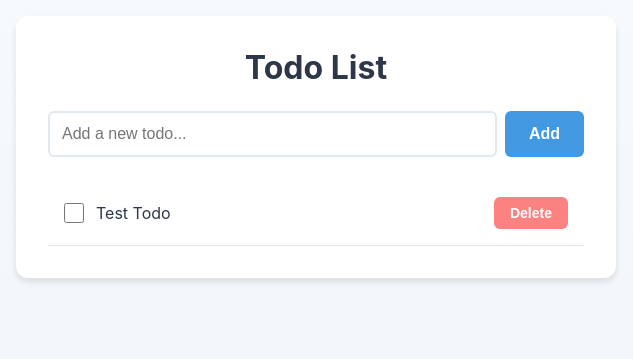
it: Home Component › should display error when deleting todo fails
Check: the text "Test Todo" is shown, box [96,203,171,223]
Step 1. Click the button "Delete" → (531, 213), box [494,197,568,229]
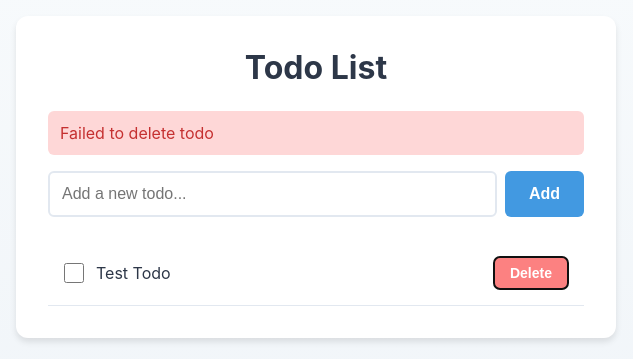
Check: the text "Failed to delete todo" is shown, box [48,111,584,155]
